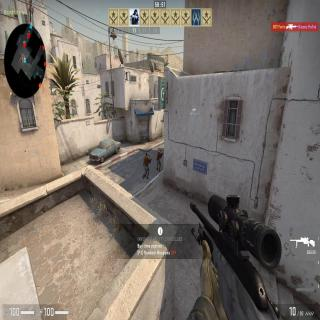T-Body: (142, 152, 152, 180), (156, 149, 162, 172)
T-Head: (158, 148, 161, 154), (148, 154, 150, 157), (146, 152, 147, 156)
